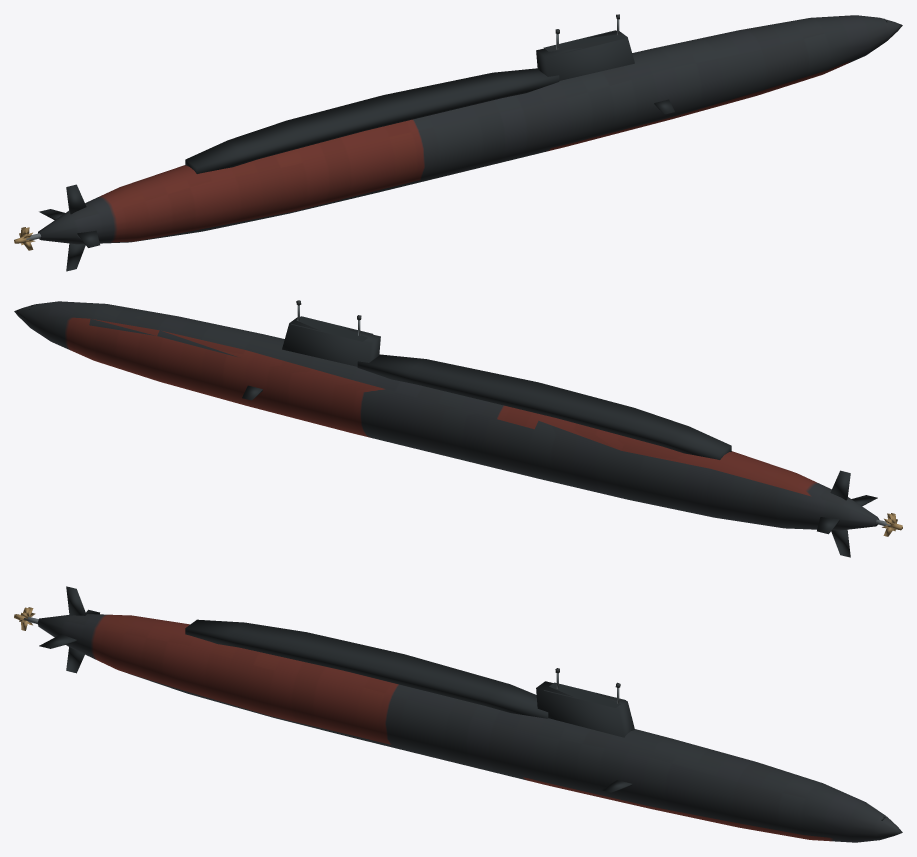
File: UK_SSBN_Resolution_LOD3.fbx
3 views of the same model, one above another, from view 1: azimuth 30°, elevation 25°; view 2: azimuth 150°, elevation 25°; view 3: azimuth 330°, elevation 25° (orthographic).
Visible parts, largest first — view 1: UK_SSBN_Resolution_LOD3; view 2: UK_SSBN_Resolution_LOD3; view 3: UK_SSBN_Resolution_LOD3.
Part boxes in pixels (left/top/right/bottom): UK_SSBN_Resolution_LOD3: left=14, top=14, right=902, bottom=271; UK_SSBN_Resolution_LOD3: left=14, top=300, right=902, bottom=557; UK_SSBN_Resolution_LOD3: left=14, top=586, right=902, bottom=842.
Size of the model in its own units: 134 by 16.72 by 17.53.
6 materials, 1 textured.
